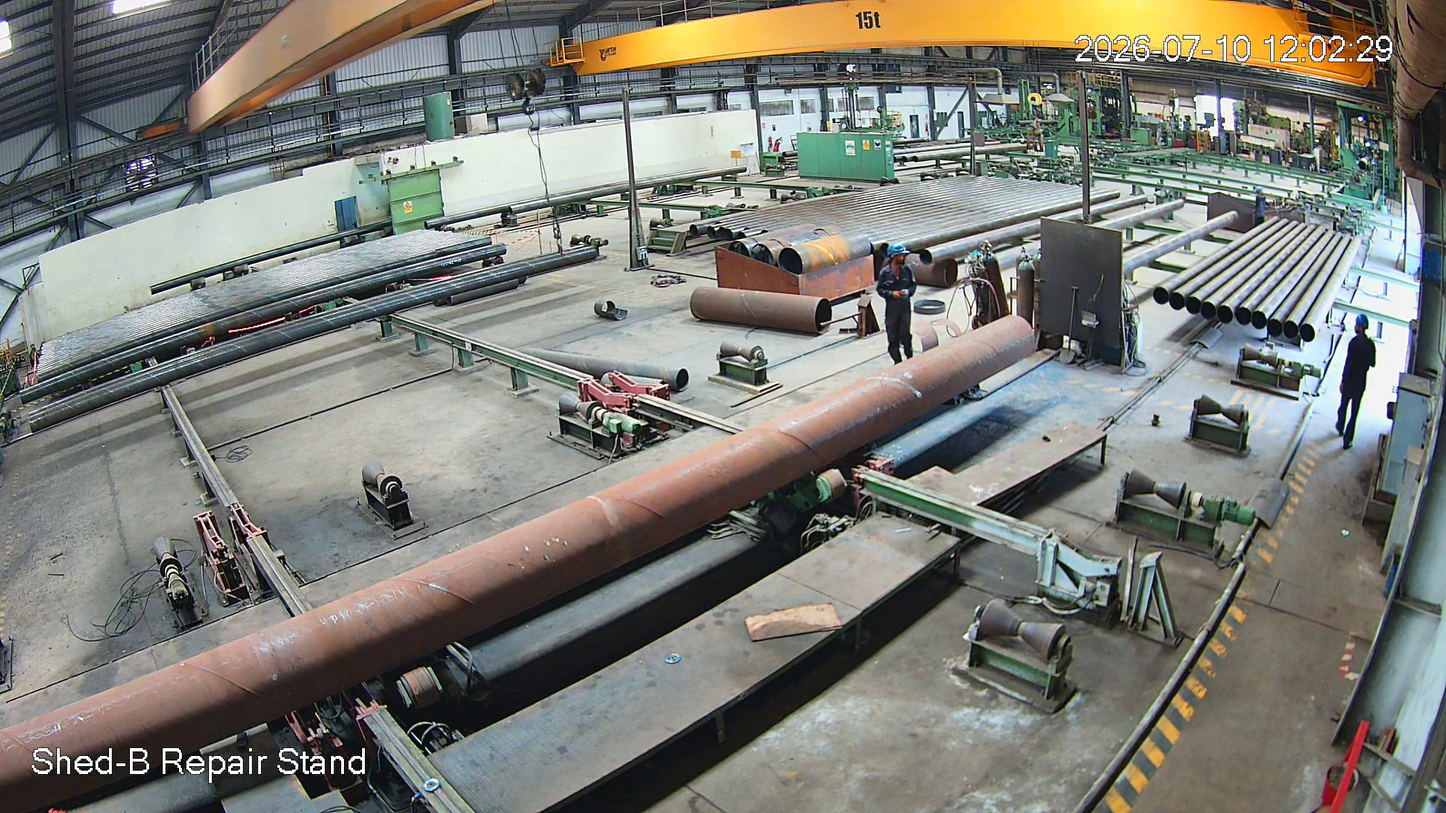Helmet: (885, 237, 911, 270), (1351, 304, 1371, 341)
Person: (1334, 312, 1379, 455), (881, 242, 914, 368)
